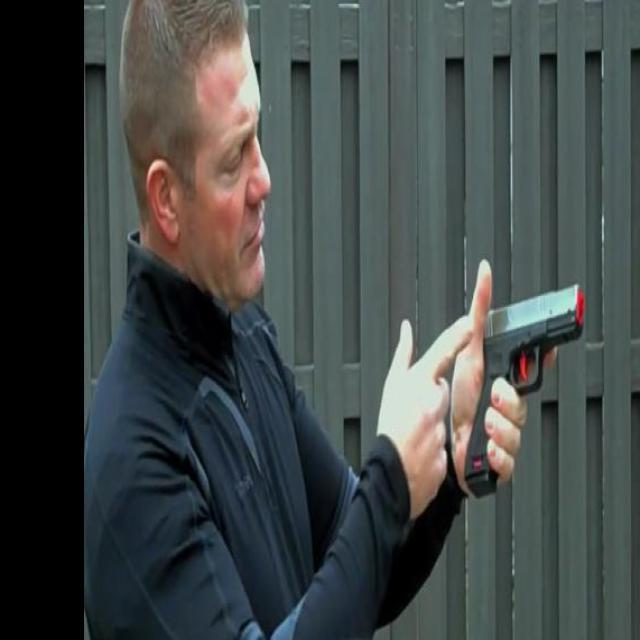Gun: (458, 276, 590, 496)
